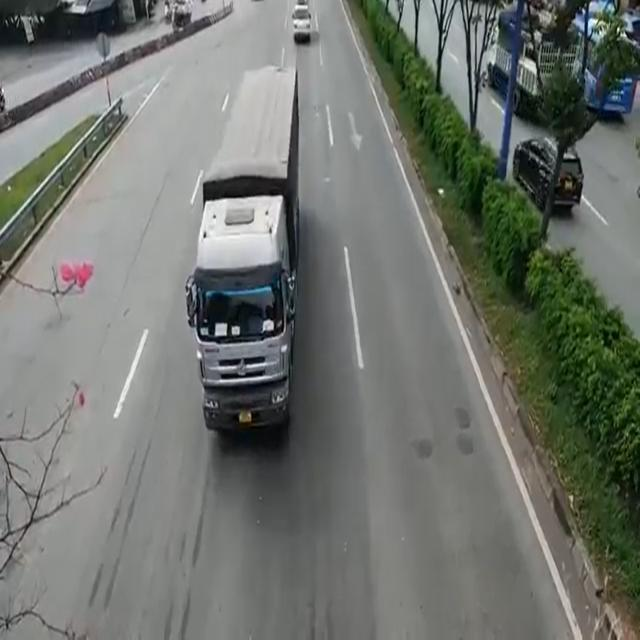car: (516, 127, 578, 215)
truck: (197, 62, 305, 449)
